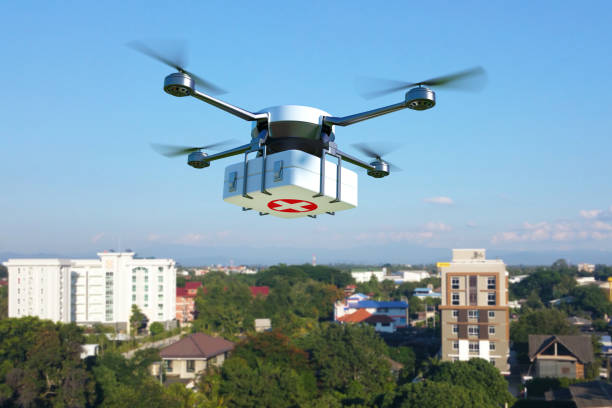Drone: (127, 33, 490, 183)
